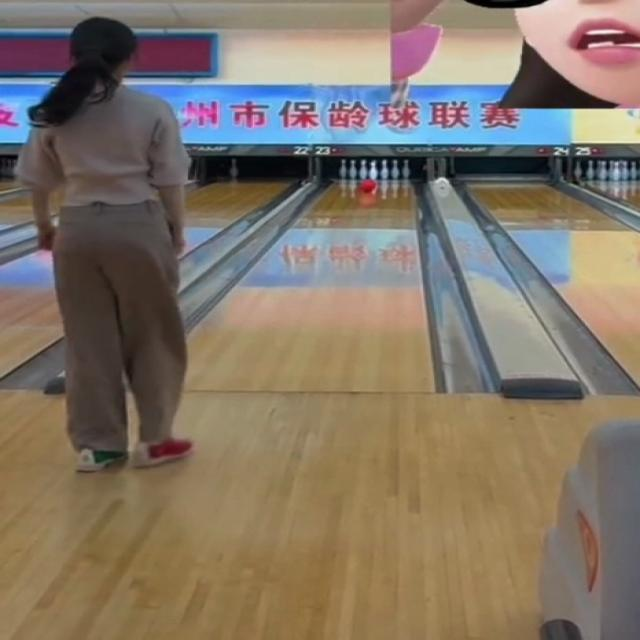alley: (191, 183, 431, 392)
balls: (358, 179, 376, 197)
bottle: (339, 159, 413, 182)
